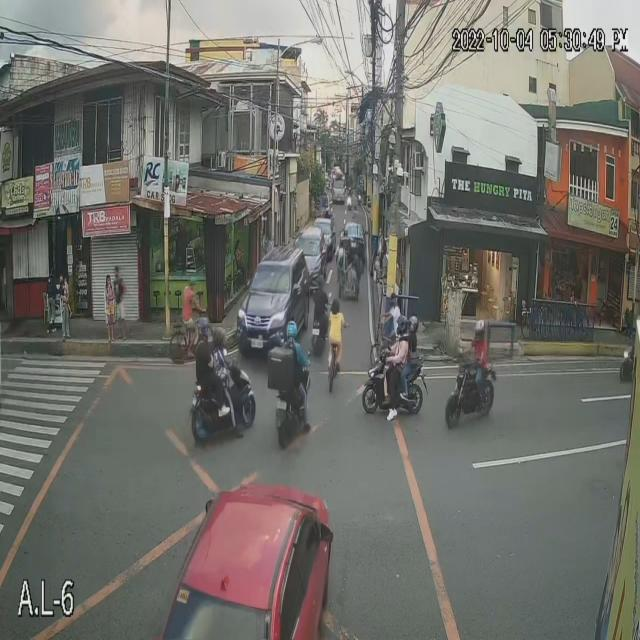Full-Faced: (213, 327, 227, 349), (197, 322, 211, 340), (474, 322, 484, 339), (408, 318, 418, 332), (395, 318, 406, 330), (285, 323, 295, 336)
Half-Faced: (316, 276, 330, 302)
Not-Wearing-Helmet: (332, 302, 341, 322)
